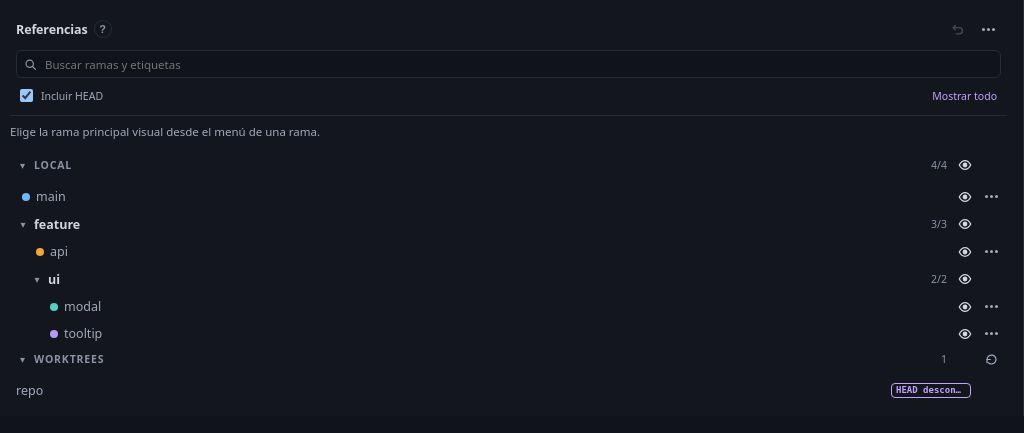
nests folders hierarchically, displays only the last segment of the name, and folds with ▾ / ▸ chevrons
Expected: the button "▾ feature" is shown, [16,216,929,232]
# Collapsing subfolder 'ui'
Step 1. Click the button "▾ ui" → click(37, 279), box [30,270,929,288]
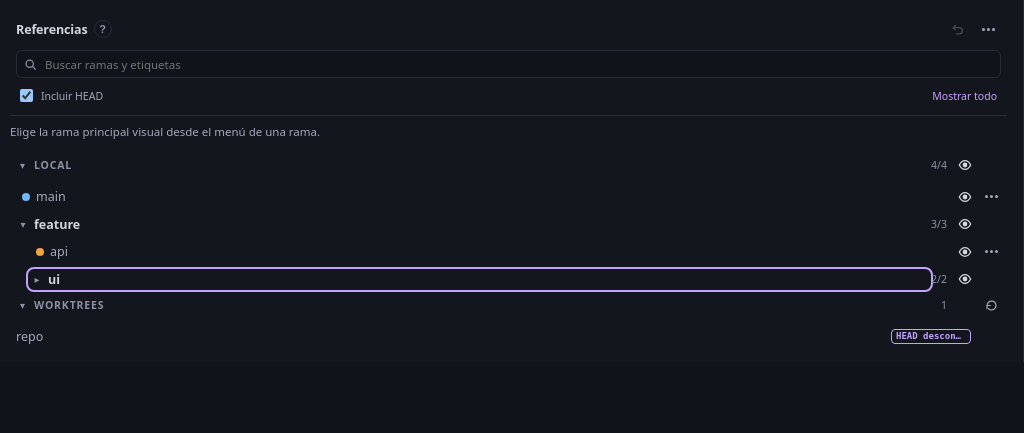
Now the button "▸ ui" is collapsed
Now the button "▸ ui" is shown
Now the button "modal" is gone
# Re-expanding 'ui' restores the leaves
Step 2. Click the button "▸ ui" → click(37, 279), box [30,270,929,288]
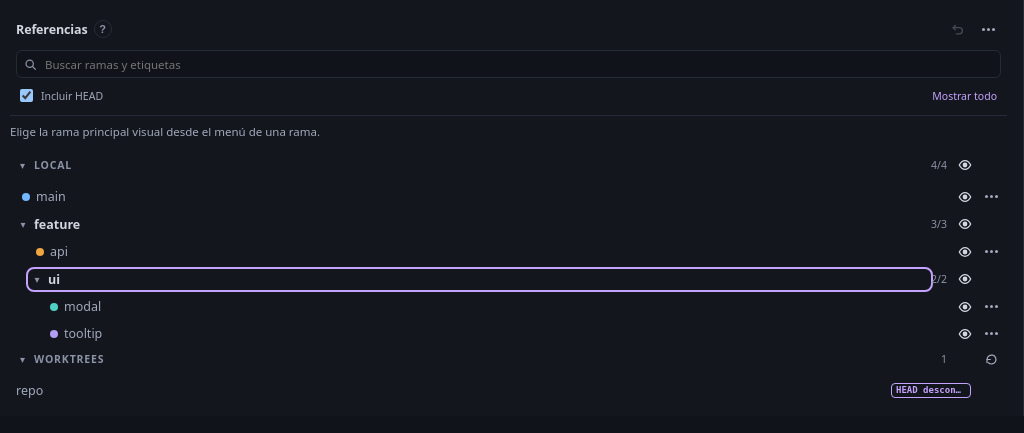
Now the button "▾ ui" is expanded, box [30,270,929,288]
